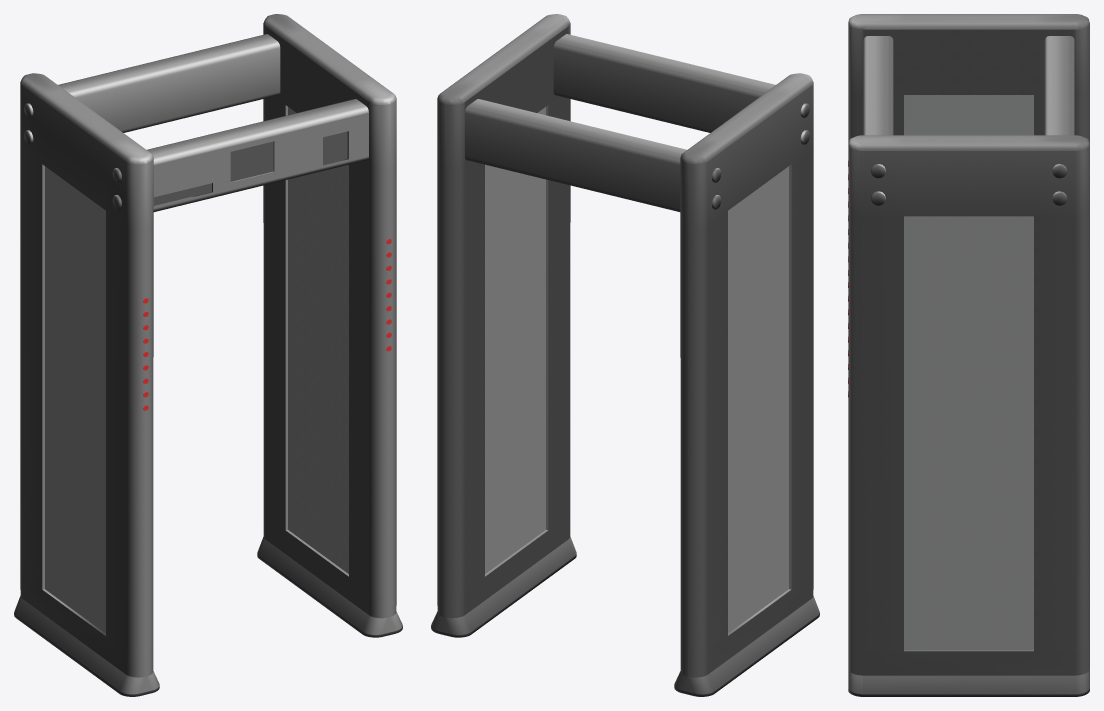
File: metal detector.fbx
3 views of the same model, side by side, from view 1: azimuth 30°, elevation 25°; view 2: azimuth 150°, elevation 25°; view 3: azimuth 270°, elevation 25° (orthographic). The views are drawn at different scales.
Parts seen in each view (by area): view 1: Cube.003; view 2: Cube.003; view 3: Cube.003.
Boxes of the visible parts, x1=… form: Cube.003: x1=14, y1=14, x2=402, y2=696; Cube.003: x1=431, y1=14, x2=819, y2=696; Cube.003: x1=848, y1=14, x2=1089, y2=696.
Size of the model in its own units: 110 by 200 by 80.05.
